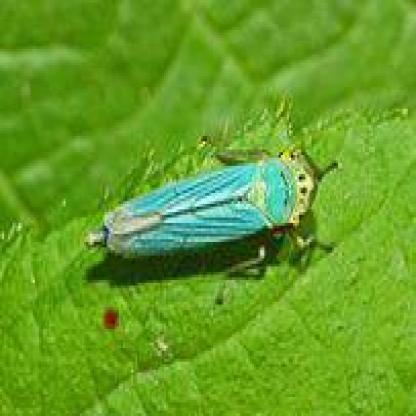Green-Leafhopper: (79, 134, 351, 280)
